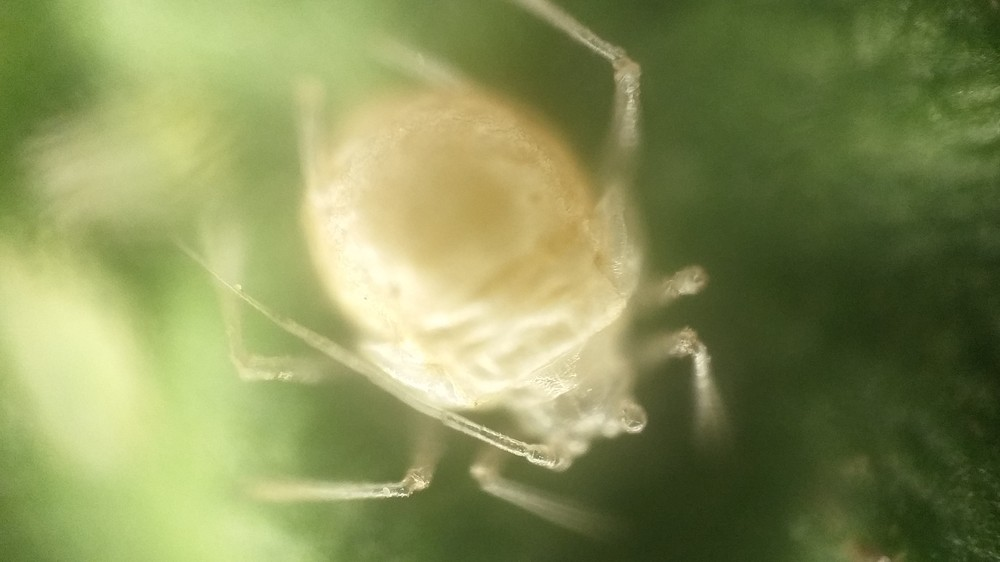Pulgon: (183, 9, 775, 552)
